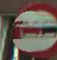No overtake: (9, 5, 52, 56)
